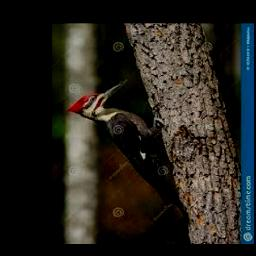Woodpecker: (69, 79, 190, 223)
